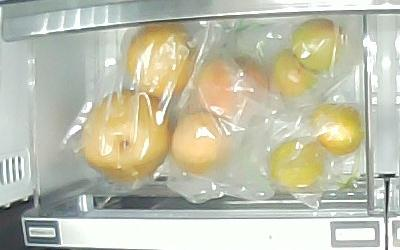peach_vinyl: (198, 56, 270, 121), (172, 114, 235, 176)
pear_vinyl: (83, 92, 172, 182), (127, 26, 197, 100)
tangerine_vinyl: (269, 139, 324, 188), (313, 104, 363, 155)
tomato_vinyl: (294, 18, 341, 72), (272, 47, 317, 96)
